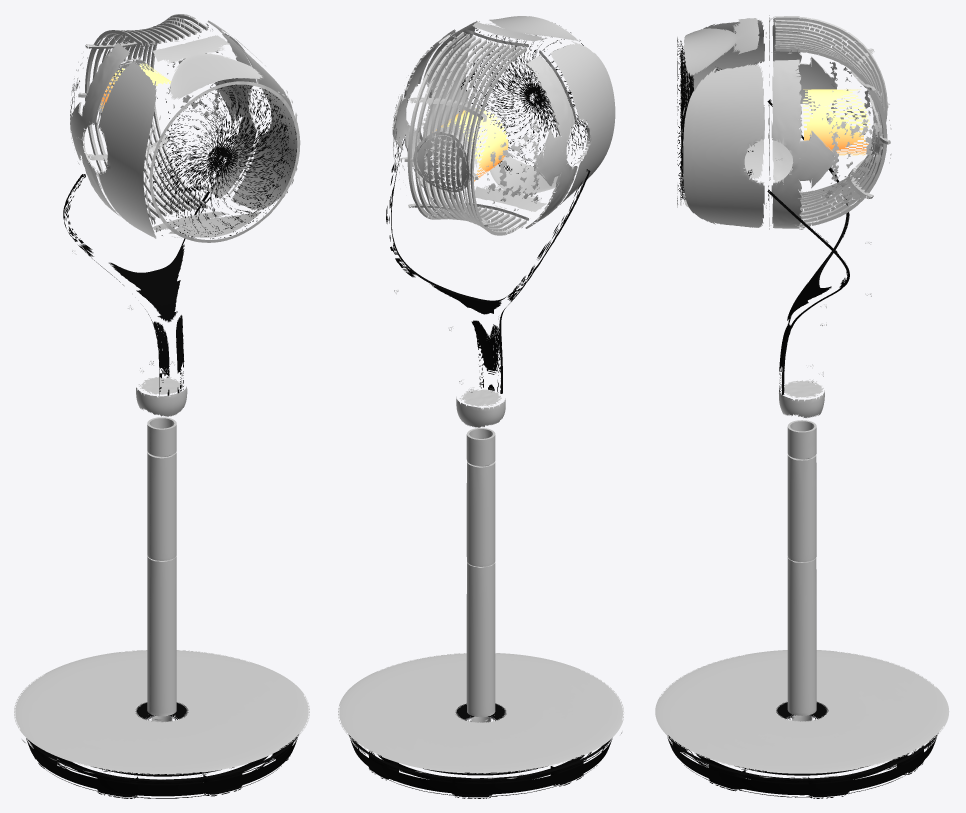
File: new_Fan_file.glb
3 views of the same model, side by side, from view 1: azimuth 30°, elevation 25°; view 2: azimuth 150°, elevation 25°; view 3: azimuth 270°, elevation 25° (orthographic). The views are drawn at different scales.
Parts seen in each view (by area): view 1: Oltao_fan.1-PLASTIC, Oltao_fan.1-BLACK PLASTIC, Oltao_fan.1-Material, Oltao_fan.1-Screen UI; view 2: Oltao_fan.1-PLASTIC, Oltao_fan.1-BLACK PLASTIC, Oltao_fan.1-Material, Oltao_fan.1-Material 001; view 3: Oltao_fan.1-PLASTIC, Oltao_fan.1-BLACK PLASTIC, Oltao_fan.1-Material 001, Oltao_fan.1-Material.
Part boxes in pixels (box(x1,y1,x2,y2)): Oltao_fan.1-PLASTIC: box(14, 14, 309, 779); Oltao_fan.1-BLACK PLASTIC: box(26, 81, 298, 798); Oltao_fan.1-Material: box(63, 132, 267, 395); Oltao_fan.1-Screen UI: box(136, 280, 184, 367); Oltao_fan.1-PLASTIC: box(338, 16, 624, 778); Oltao_fan.1-BLACK PLASTIC: box(349, 23, 612, 798); Oltao_fan.1-Material: box(386, 81, 590, 393); Oltao_fan.1-Material 001: box(435, 108, 508, 181); Oltao_fan.1-PLASTIC: box(655, 15, 949, 778); Oltao_fan.1-BLACK PLASTIC: box(667, 40, 938, 798); Oltao_fan.1-Material 001: box(802, 89, 870, 155); Oltao_fan.1-Material: box(678, 99, 849, 394).
Bounding box in the file's own units: 0.5888 × 1.55 × 0.5833.
Materials: 7 (2 with a texture image).
